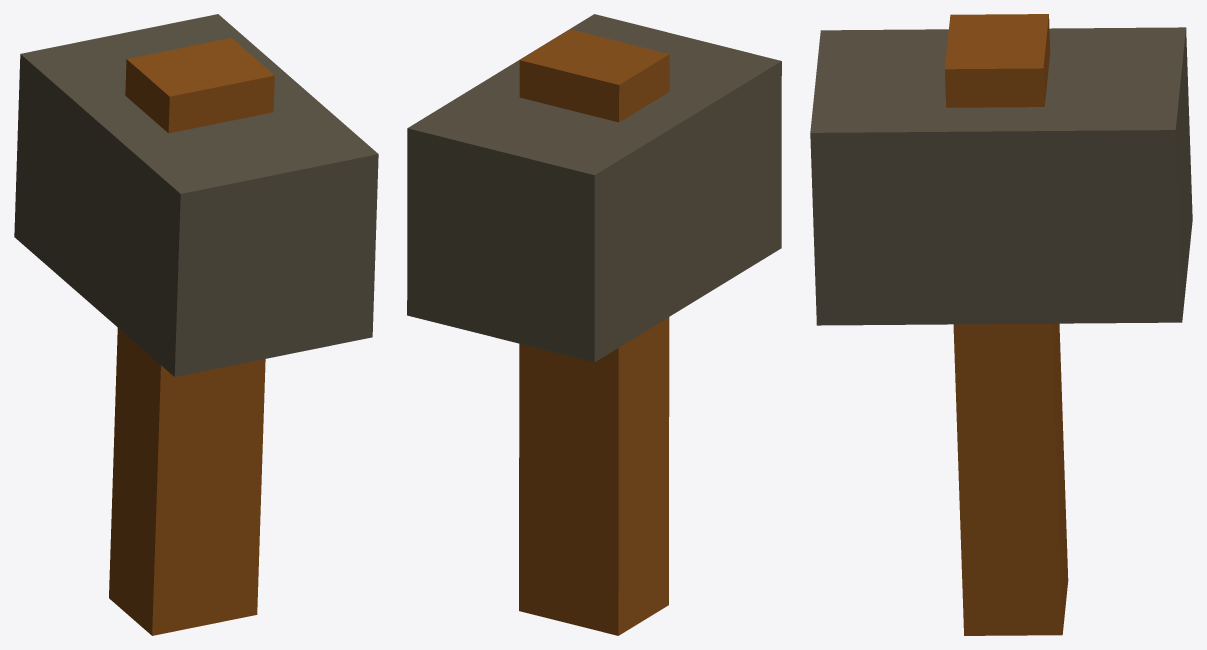
File: hammer.fbx
3 renders of one model, left to right at view 1: azimuth 30°, elevation 25°; view 2: azimuth 150°, elevation 25°; view 3: azimuth 270°, elevation 25°, orthographic. The views are drawn at different scales.
Parts seen in each view (by area): view 1: polySurface18; view 2: polySurface18; view 3: polySurface18.
Part boxes in pixels (<box>): polySurface18: <box>14,14,378,635</box>; polySurface18: <box>407,14,781,635</box>; polySurface18: <box>810,14,1192,635</box>.
Size of the model in its own units: 4.33 by 10.83 by 6.52.
1 material, 1 textured.
